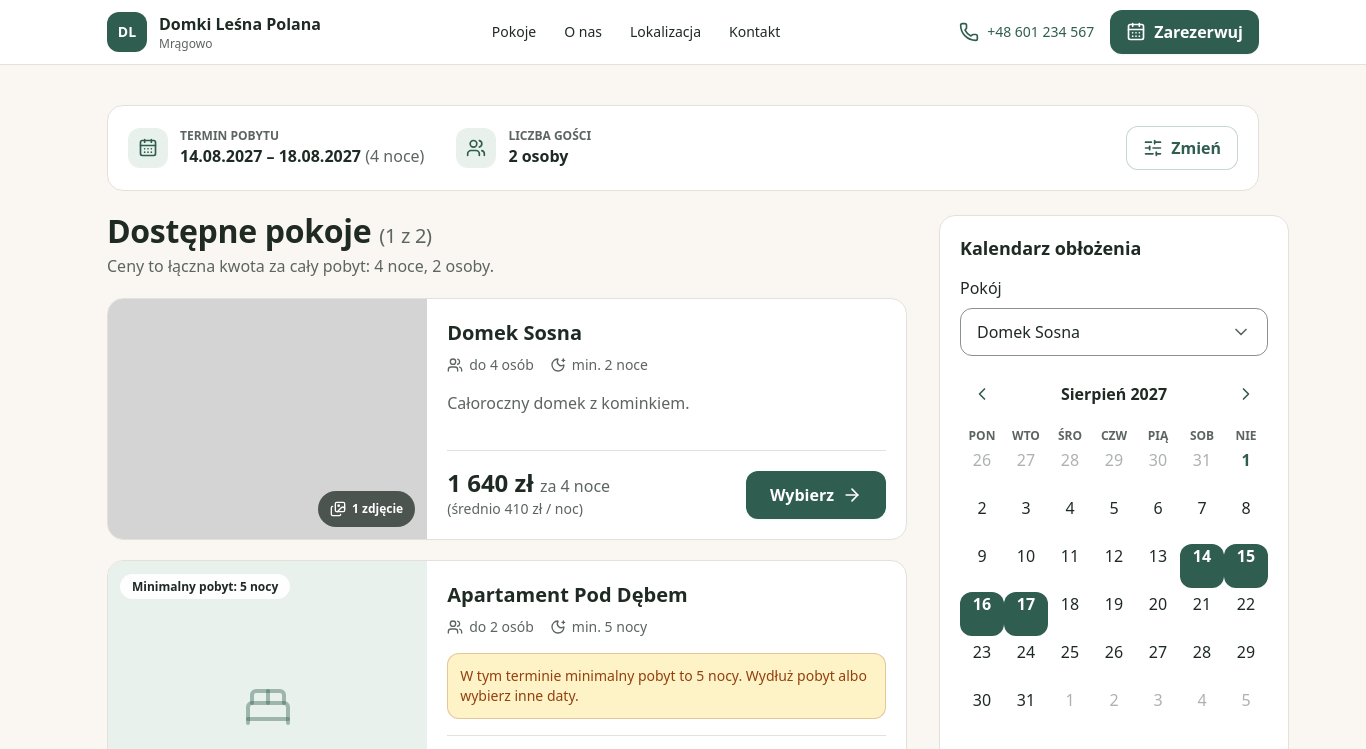
Test: AvailabilityPage (P2) › "Zmień" opens the search with the current stay
Click the button "Zmień": point(1182, 148) [1126,126,1238,170]
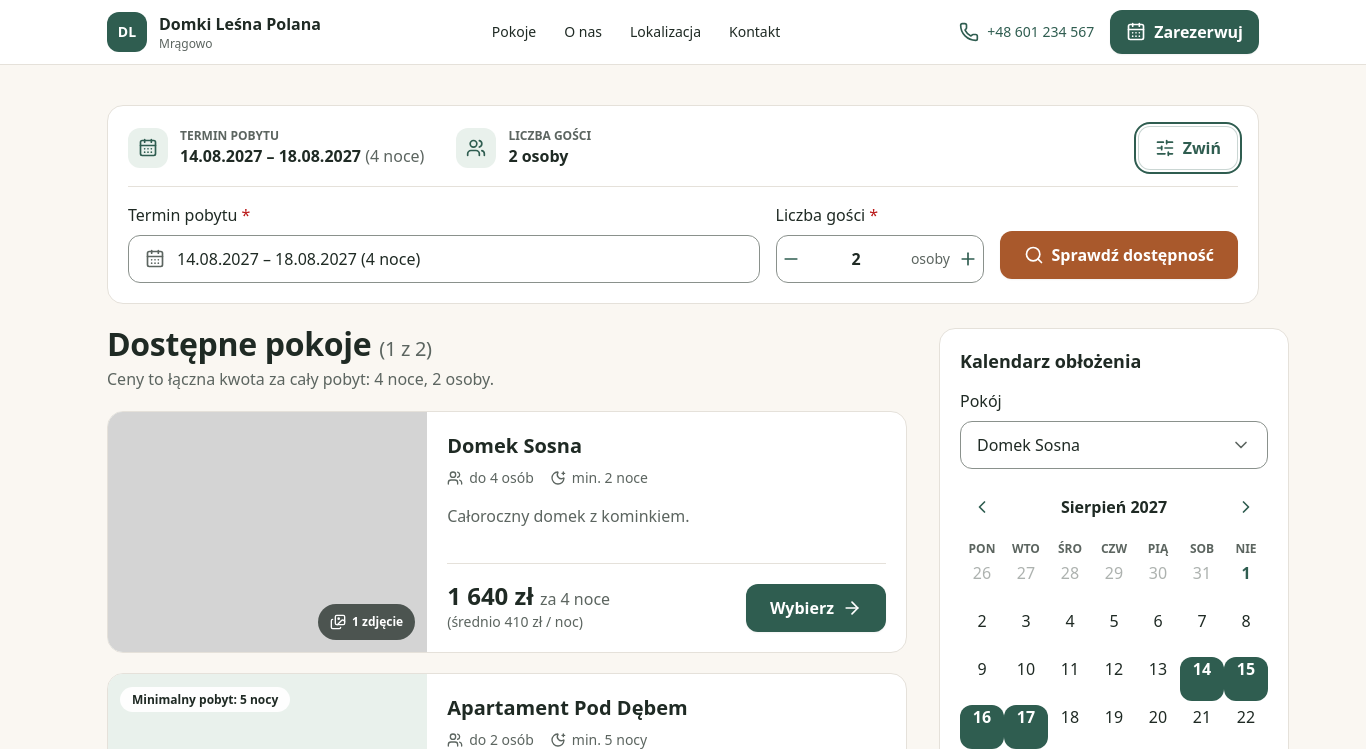
Check: the button named "Zmień" is expanded, box [1138,126,1238,170]
Check: the button named "Termin pobytu" reads "14.08.2027 – 18.08.2027 (4 noce)", box [128,235,760,283]
